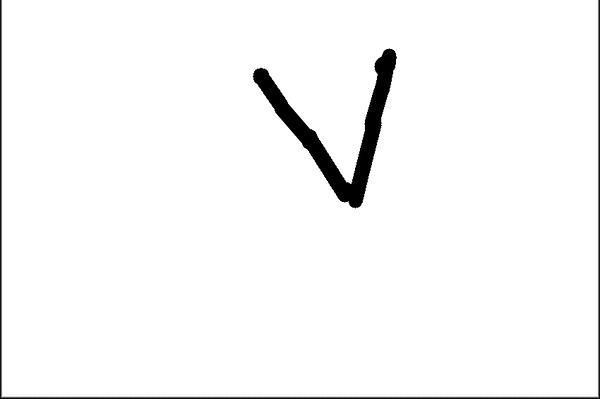V: (240, 36, 416, 217)
